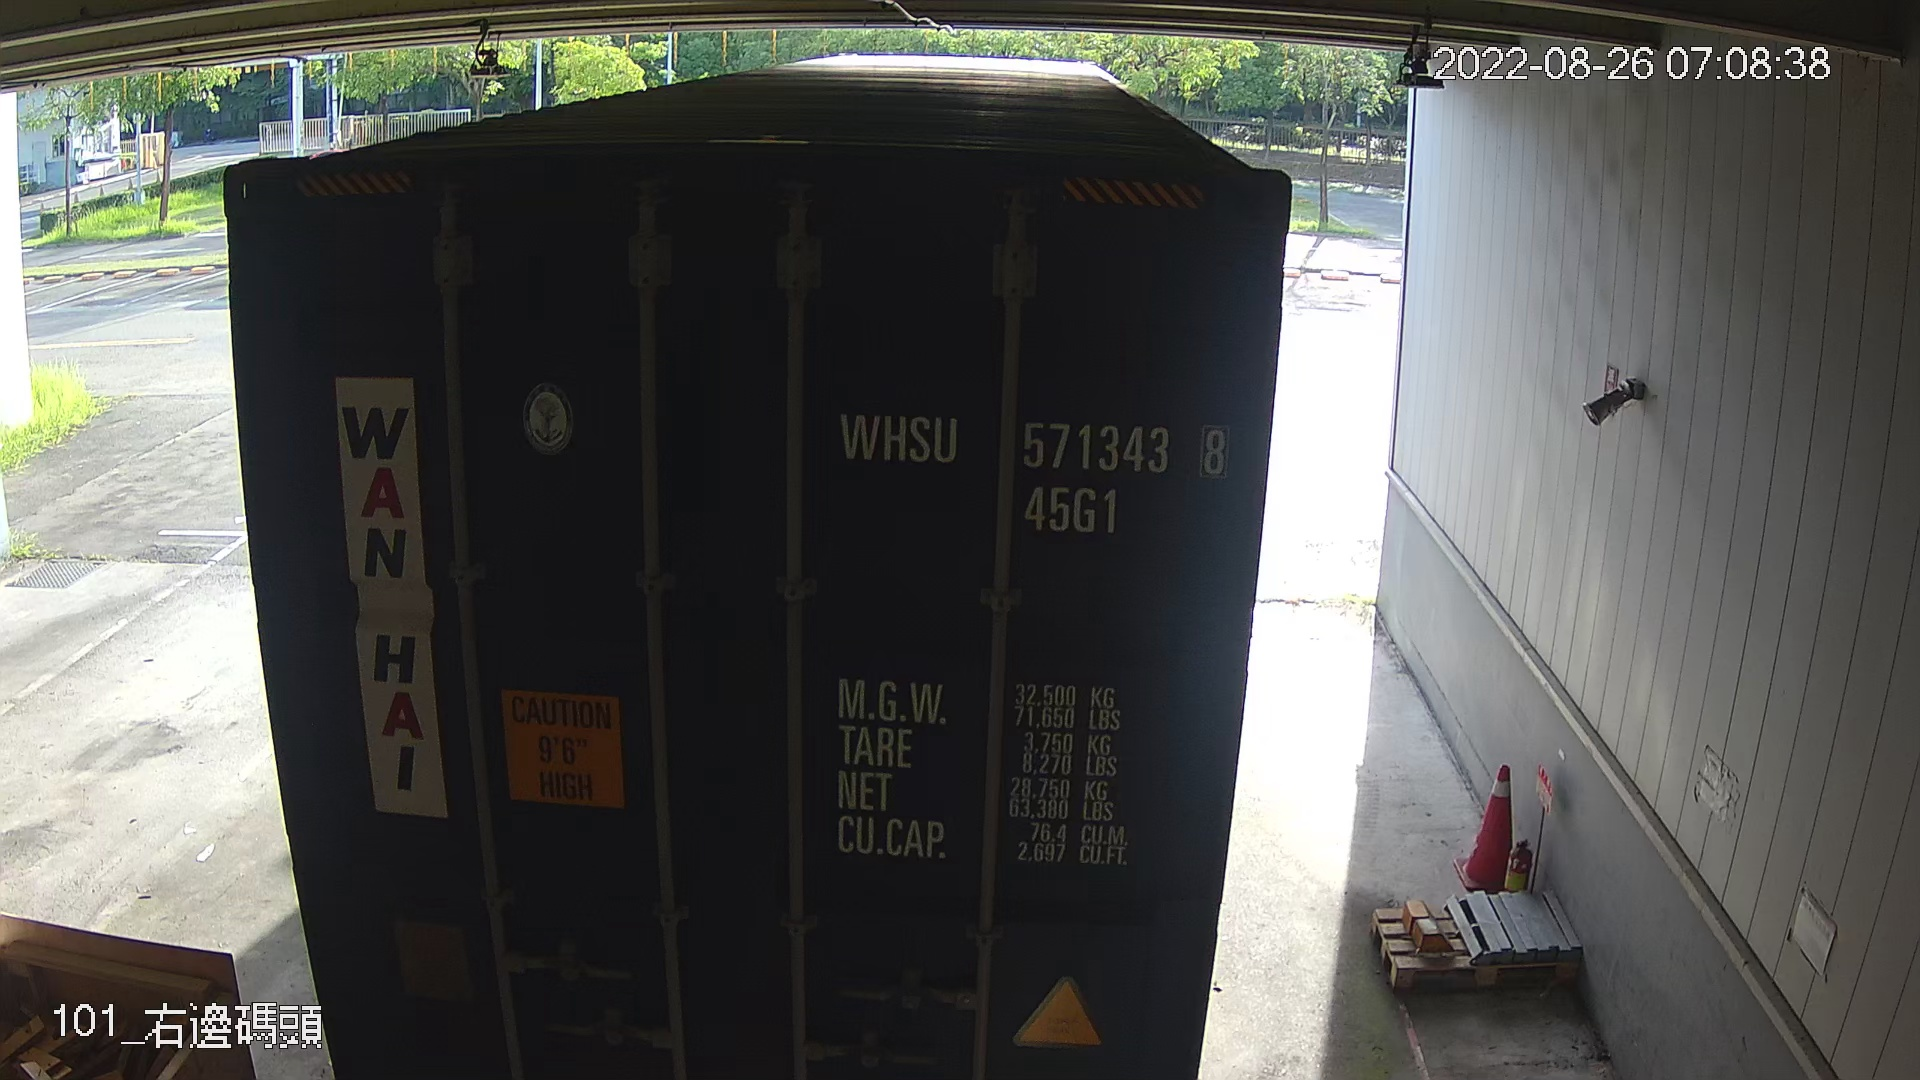container: (823, 392, 1242, 547)
